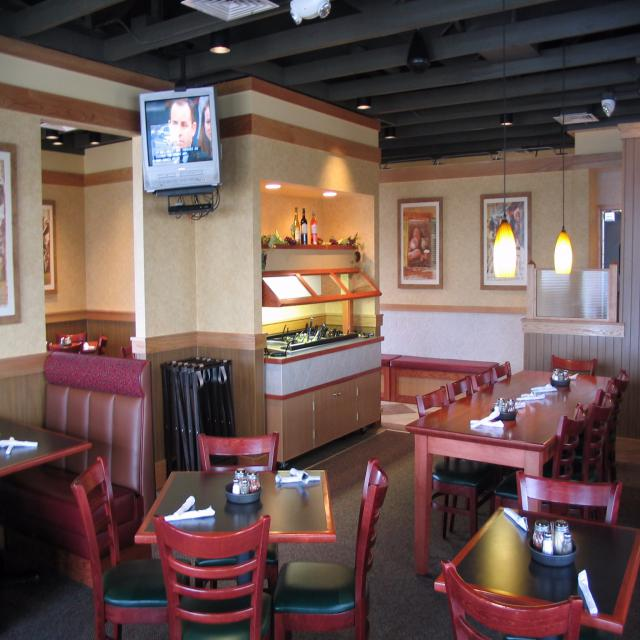TV: (140, 86, 220, 190)
bottle crop: (293, 206, 300, 244), (310, 211, 318, 243), (300, 208, 307, 243)
ceiling beam: (0, 0, 639, 163), (40, 122, 130, 150), (259, 179, 369, 200)
chair cushion: (273, 457, 388, 639), (152, 513, 272, 638), (441, 560, 582, 637)
chair part: (70, 455, 189, 639), (415, 383, 502, 538), (197, 429, 278, 467), (446, 374, 470, 401), (492, 360, 512, 380), (474, 368, 491, 390), (85, 335, 108, 350)
chairs: (554, 370, 627, 482)
door opening: (597, 208, 622, 320)
flavorings: (529, 518, 577, 563), (224, 468, 262, 503), (488, 397, 516, 419), (551, 370, 570, 384)
floor -X: (0, 388, 639, 639)
lamp crop: (492, 0, 516, 278), (554, 64, 572, 273), (409, 28, 430, 73), (209, 31, 230, 54)
pane: (534, 268, 607, 320)
partition wall: (521, 122, 640, 439)
picture crop: (480, 191, 531, 290), (397, 195, 443, 288)
picture frame: (0, 141, 19, 324)
picture of flag: (42, 198, 57, 294)
seat crop: (0, 350, 151, 589)
stand clothes: (262, 326, 385, 466)
table -X: (134, 468, 334, 544)
table lamp: (2, 412, 91, 477)
table runner: (406, 368, 618, 574), (434, 507, 639, 632), (47, 339, 78, 350)
wall clock: (0, 35, 381, 520), (381, 127, 620, 401), (82, 139, 135, 360), (40, 149, 85, 352)
